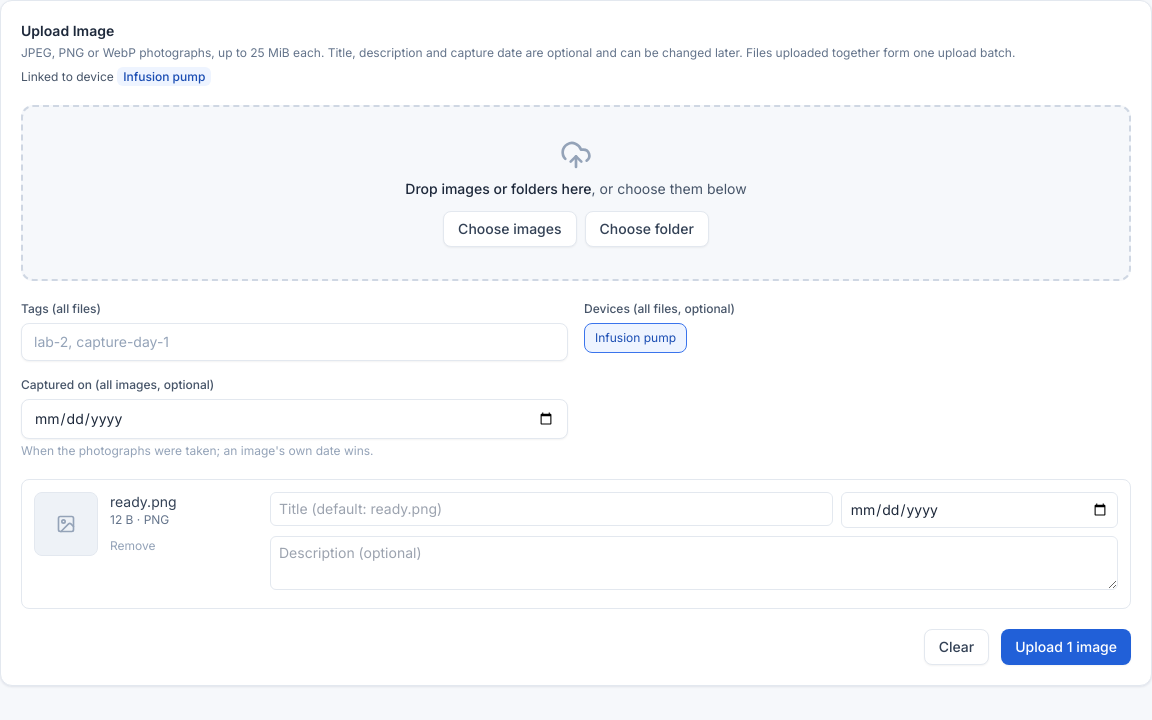
it: ArtifactUploader (images) › never adds a file whose check finishes after the upload started
Earlier steps of the test are not shown.
Click the button "Upload 1 image".
click(1066, 647)  # box [1001,629,1131,665]
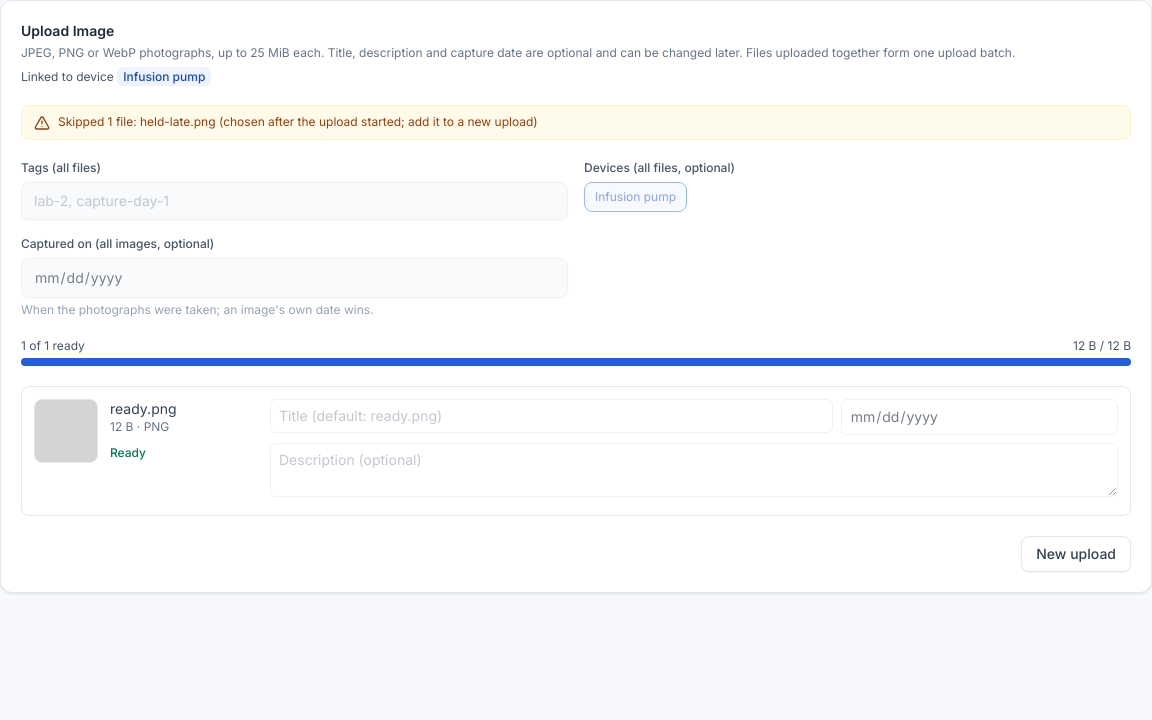
Expected: the text "held-late.png (chosen after the upload started; add it to a new upload)" is shown, [140,114,538,129]
